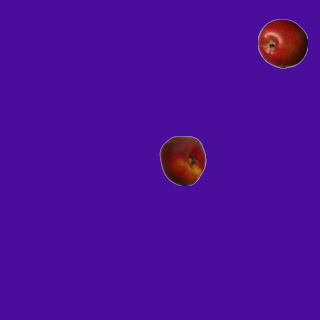Apple Braeburn: (257, 18, 307, 68)
Nectarine Flat: (157, 135, 207, 185)
